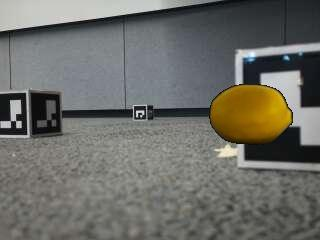lemon: (210, 85, 293, 144)
